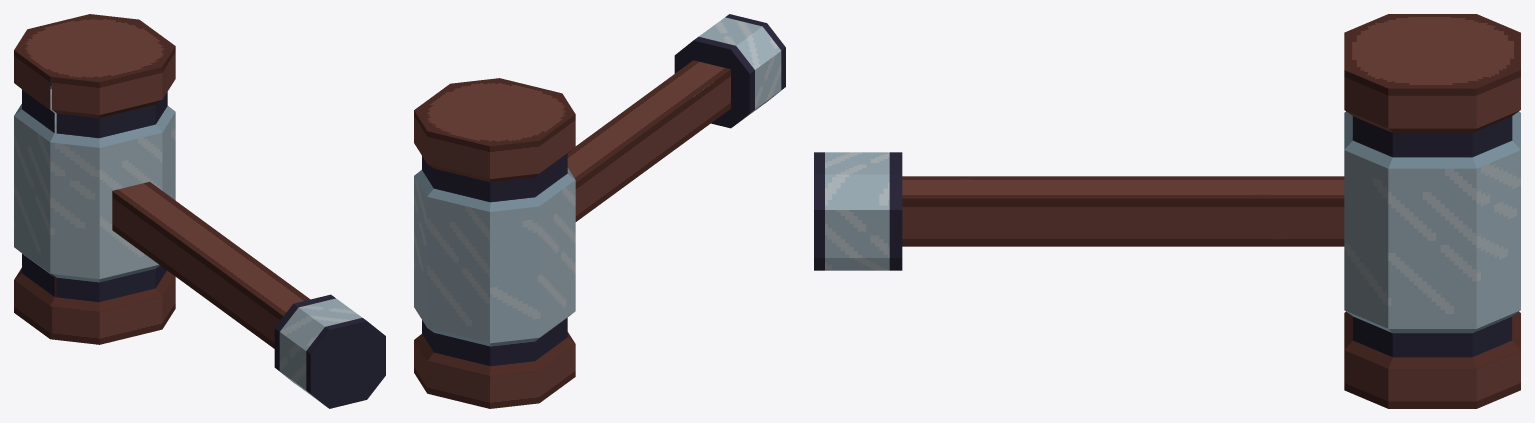
Rendered from hammer.fbx.
3 renders of one model, left to right at view 1: azimuth 30°, elevation 25°; view 2: azimuth 150°, elevation 25°; view 3: azimuth 270°, elevation 25°, orthographic. The views are drawn at different scales.
Visible parts, largest first — view 1: tokmak; view 2: tokmak; view 3: tokmak.
Part boxes in pixels (bbox=[...]): tokmak: bbox=[14, 14, 385, 408]; tokmak: bbox=[414, 14, 785, 408]; tokmak: bbox=[814, 14, 1520, 408].
Size of the model in its own units: 200 by 400 by 800.
